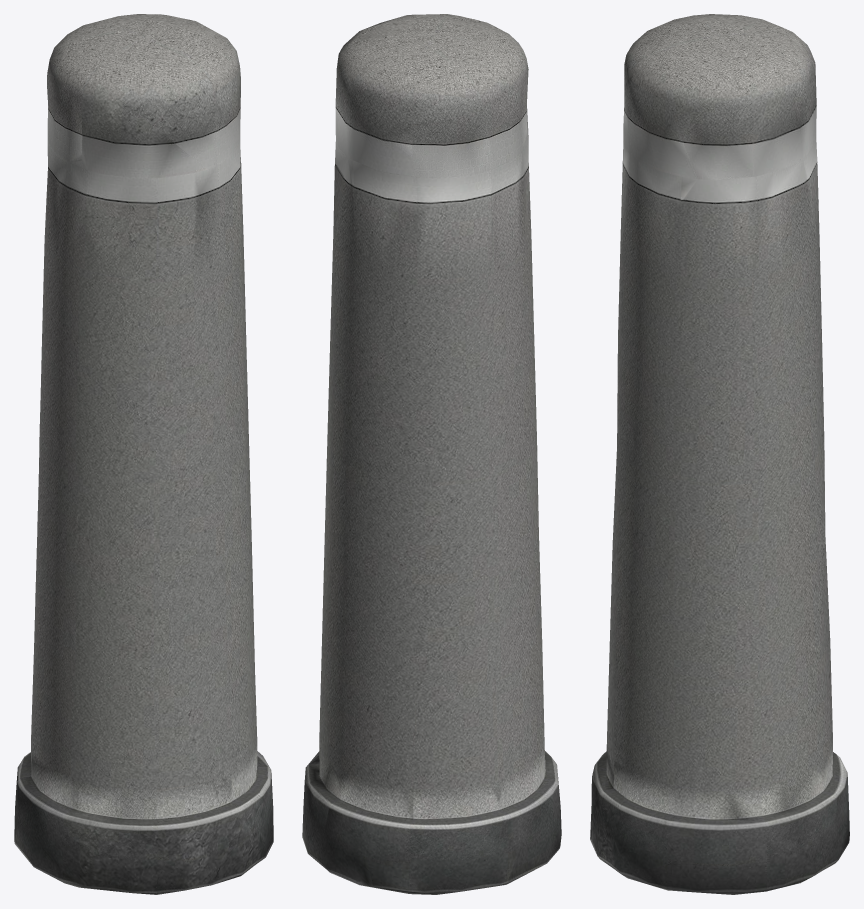
The model's file is bollard2_lod1.glb.
The picture shows the model from 3 angles, left to right: view 1: azimuth 30°, elevation 25°; view 2: azimuth 150°, elevation 25°; view 3: azimuth 270°, elevation 25°; orthographic projection.
Visible parts, largest first — view 1: mesh_node; view 2: mesh_node; view 3: mesh_node.
Boxes of the visible parts, <box> form: mesh_node: <box>14,14,273,894</box>; mesh_node: <box>302,14,561,894</box>; mesh_node: <box>590,14,849,894</box>.
Size of the model in its own units: 0.5544 by 1.9 by 0.5563.
1 material, 1 textured.
